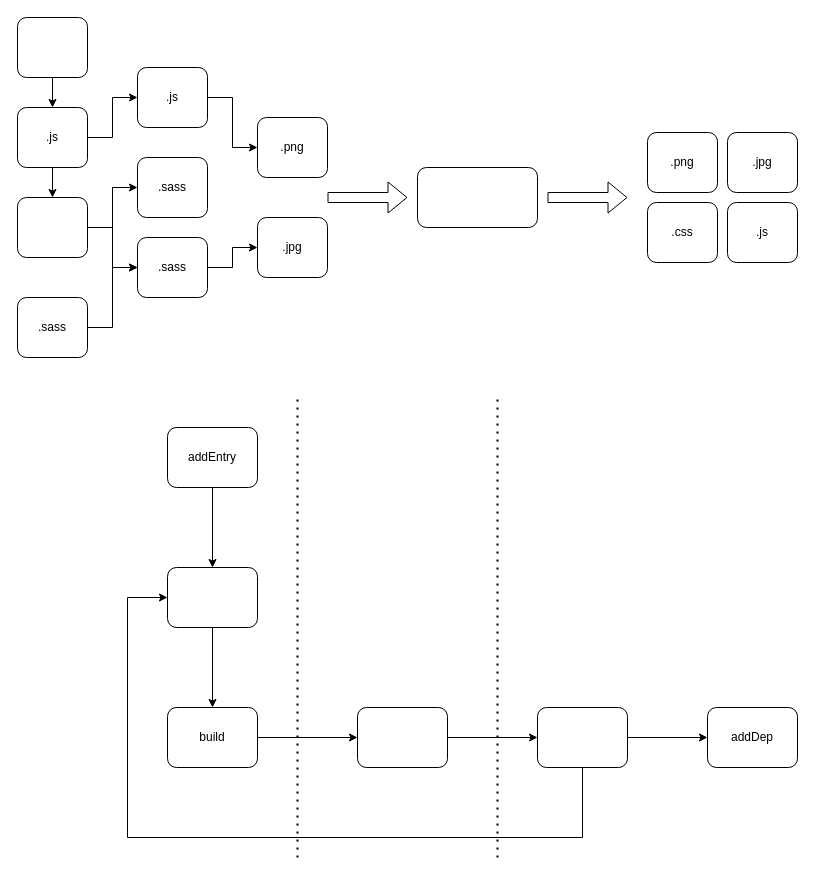
Some shapes in this 815 by 877 pixel diagram are drawn without their labels. The centre of each missing label's shape, as x and y in pixels:
".cjs" belongs at [52,227].
".hbs" belongs at [52,47].
"Loader" belongs at [402,737].
"moduleCreate" belongs at [212,597].
"parse" belongs at [582,737].
"webpack" belongs at [477,197].
